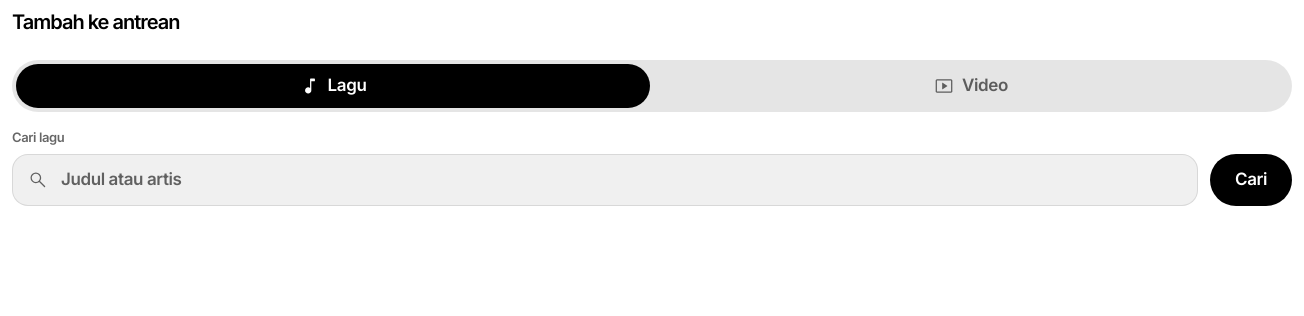
Test case: SearchPanel › switches between the Lagu and Video tabs
Expected: the heading "Tambah ke antrean" is shown, [12,10,180,34]
Expected: the tab "Lagu" is shown, [16,64,650,108]
Click the tab "Video" at [971, 86], box [654,64,1288,108]
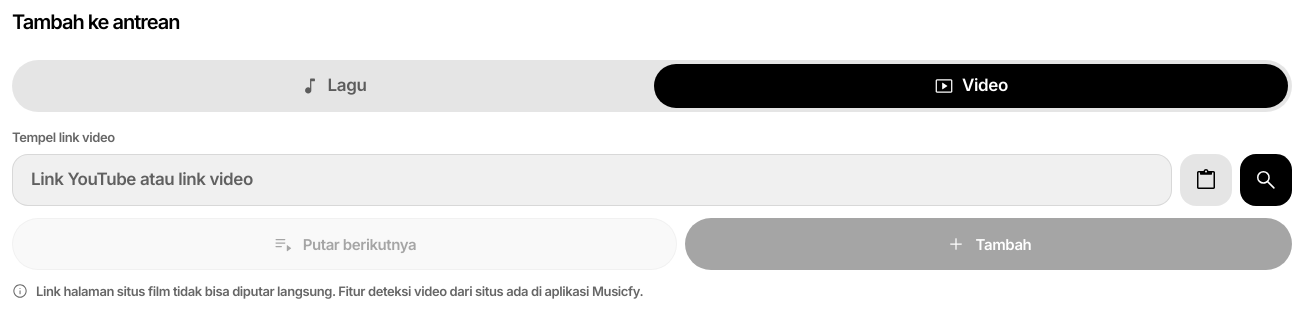
Now the field labelled "Tempel link video" is shown, box [12,154,1172,206]
Now the label labelled "Cari lagu" is gone
Click the tab "Lagu" at [333, 86], box [16,64,650,108]
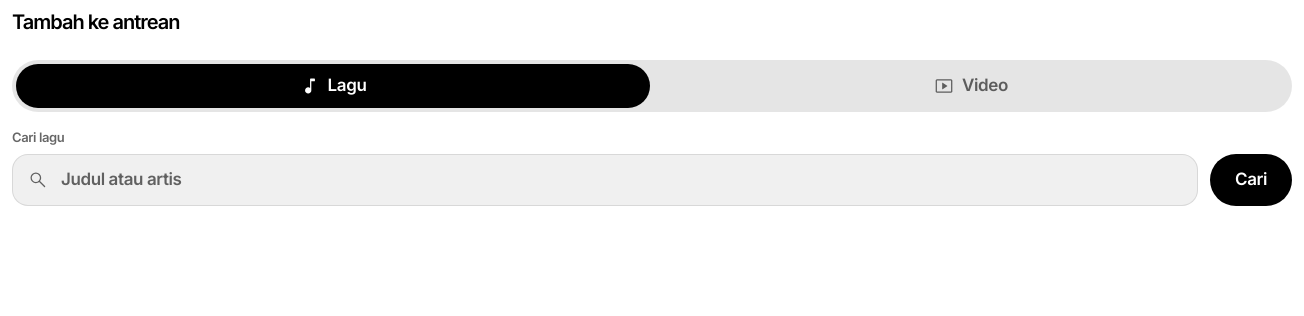
Now the search field labelled "Cari lagu" is shown, box [12,154,1198,206]
